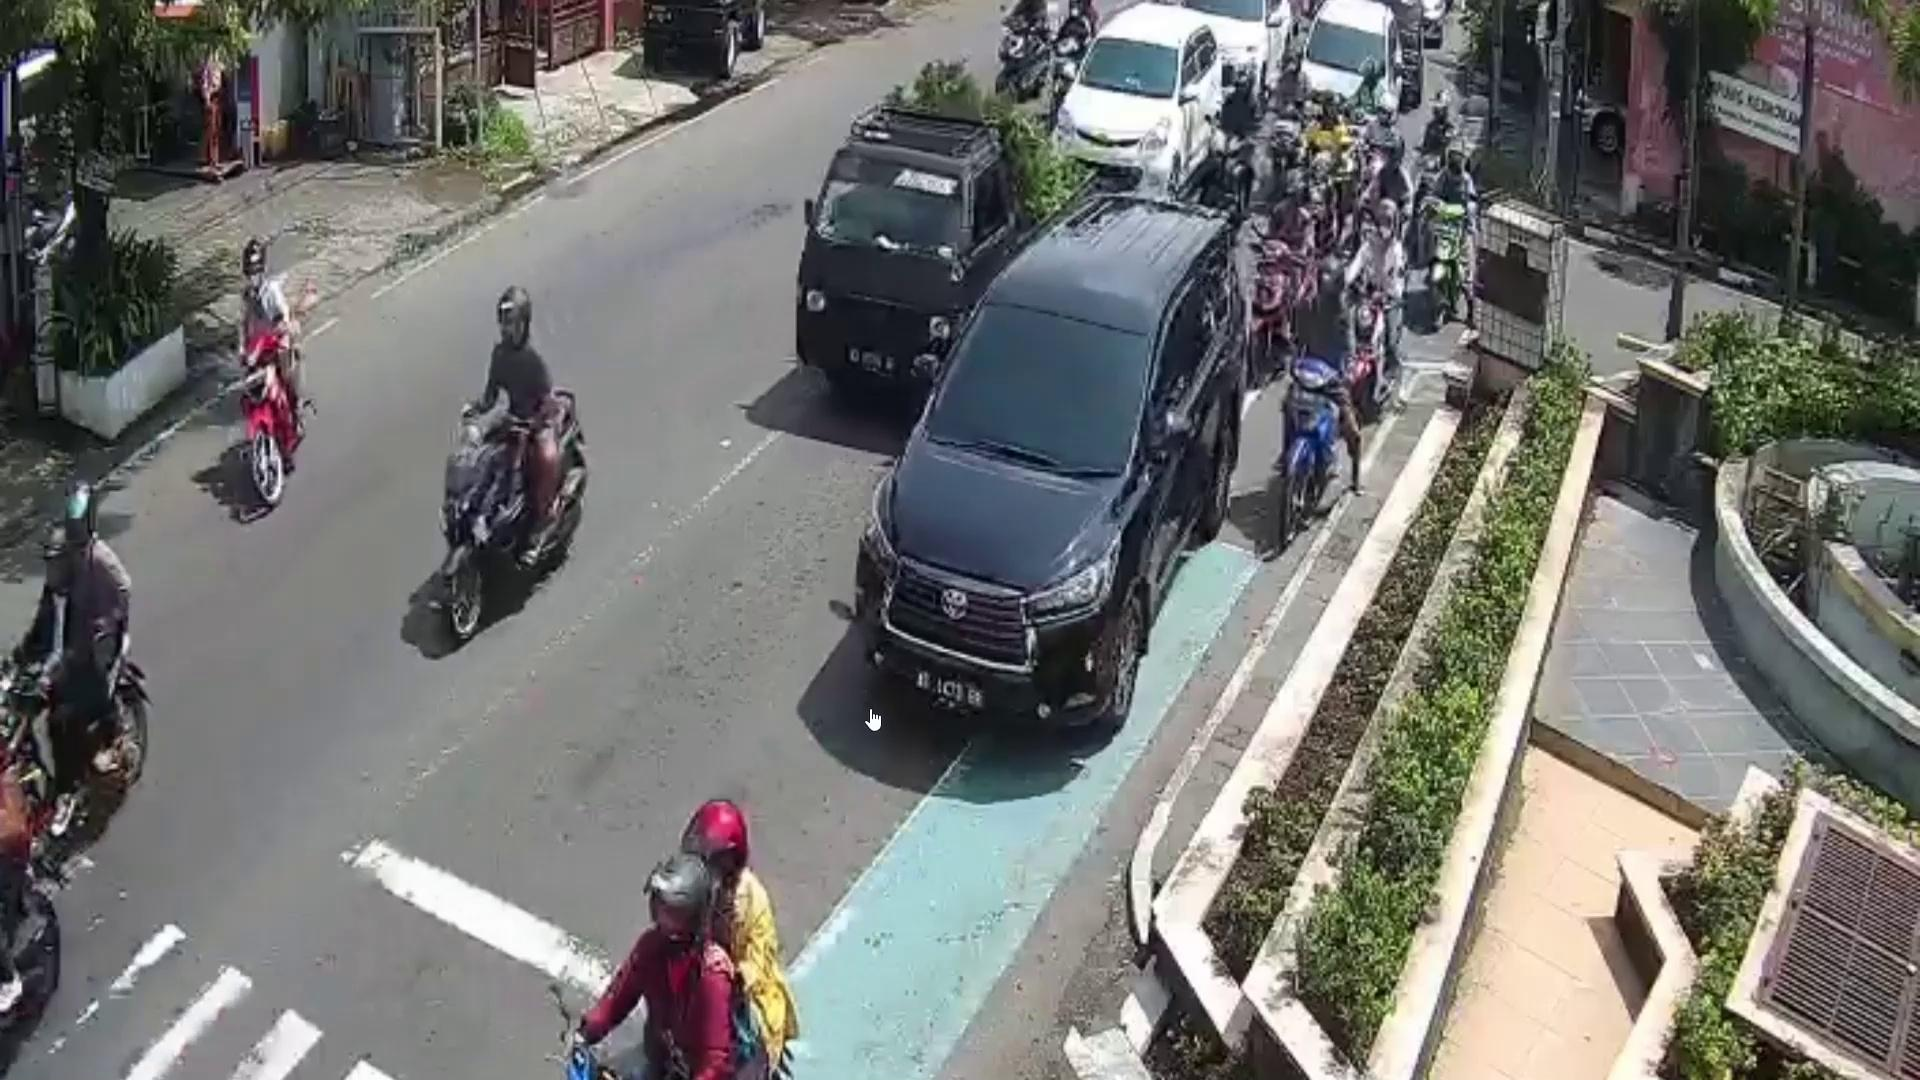car: (858, 190, 1244, 737), (800, 112, 1100, 398), (1076, 0, 1229, 141), (1302, 0, 1406, 160), (1184, 0, 1295, 99)
motorbike: (439, 385, 584, 642), (243, 335, 307, 513), (1282, 360, 1342, 538), (1423, 198, 1482, 334)
